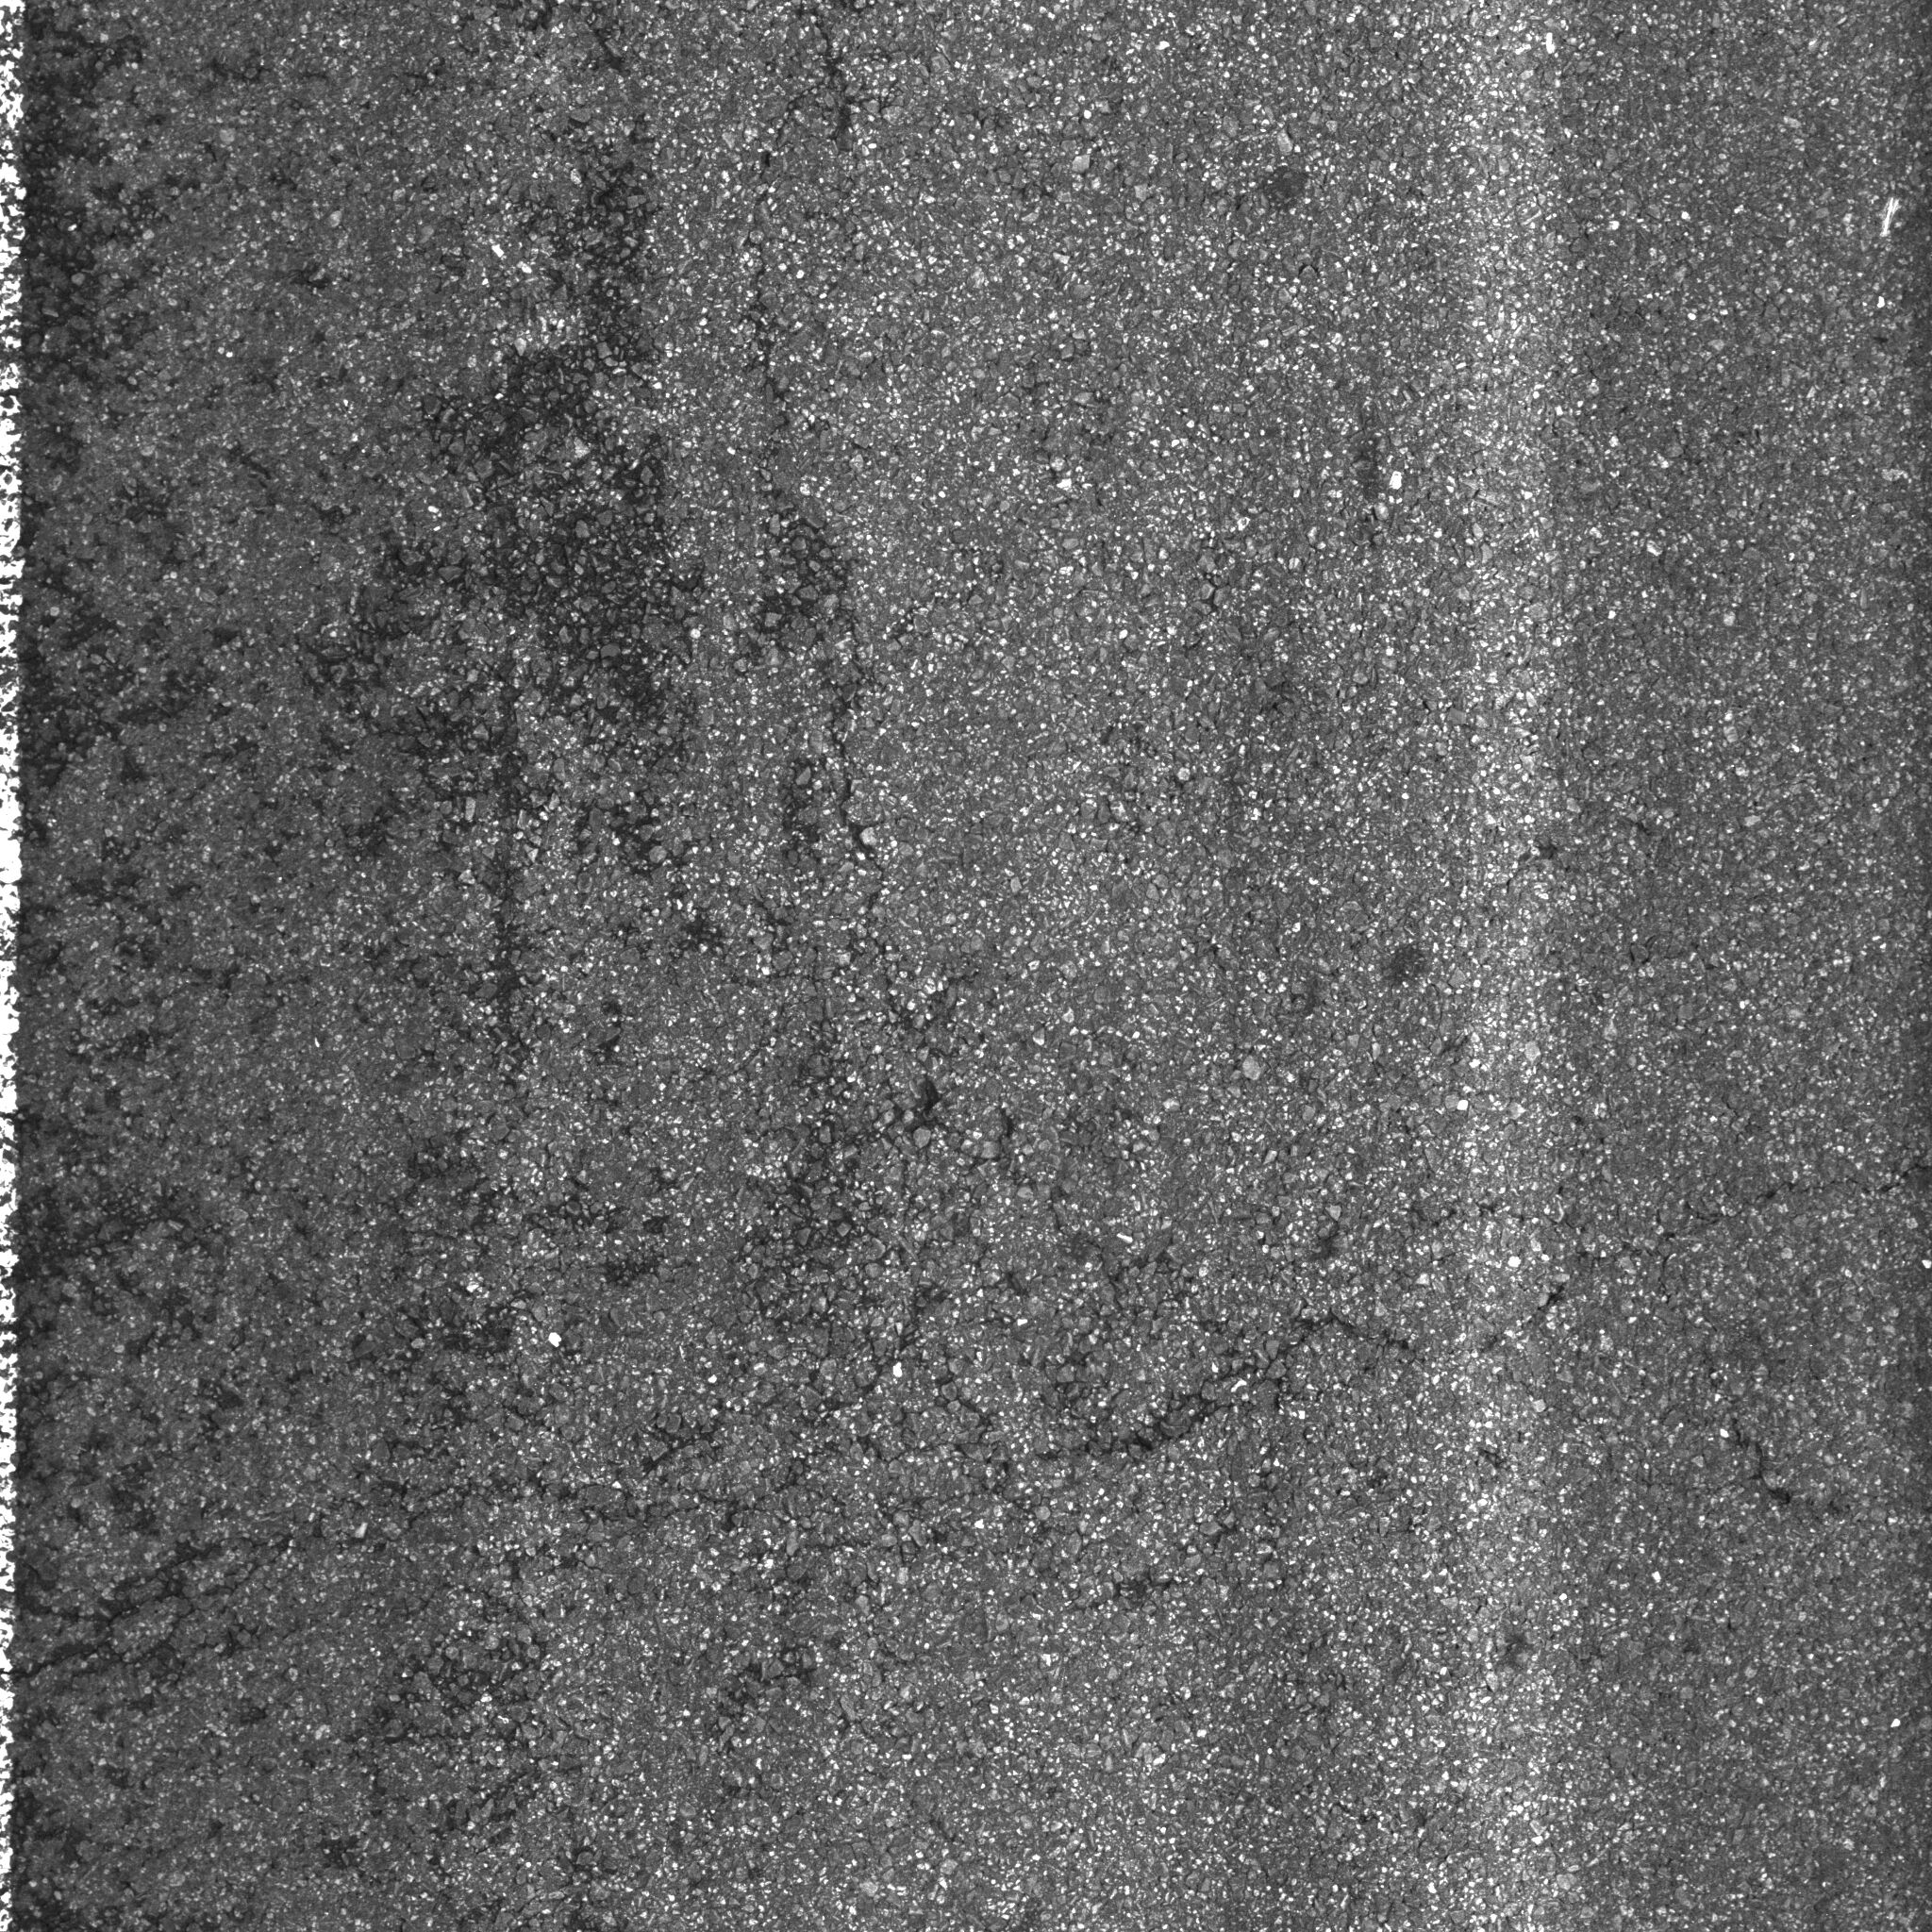transeverse: (823, 1166, 1927, 1504), (736, 295, 993, 1146)
